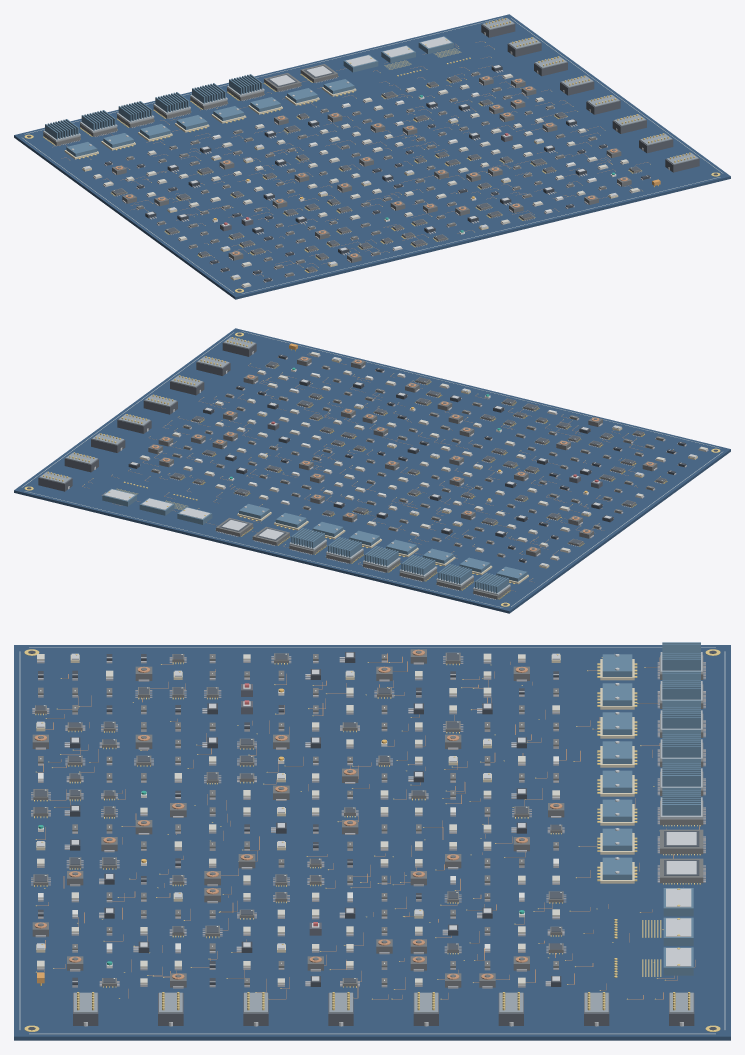
File: 401_L125_AssembledReference.glb
3 renders of one model, top to bottom at view 1: azimuth 30°, elevation 25°; view 2: azimuth 150°, elevation 25°; view 3: azimuth 270°, elevation 25°, orthographic. The views are drawn at different scales.
Visible parts, largest first — view 1: 401_L125_AssembledReference_pcb, 401_L125_AssembledReference_rfshield, 401_L125_AssembledReference_graphite, 401_L125_AssembledReference_ferrite, 401_L125_AssembledReference_solder, 401_L125_AssembledReference_ceramic, 401_L125_AssembledReference_resistor, 401_L125_AssembledReference_connector, 401_L125_AssembledReference_gold, 401_L125_AssembledReference_black, 401_L125_AssembledReference_silver, 401_L125_AssembledReference_chip (+7 smaller); view 2: 401_L125_AssembledReference_pcb, 401_L125_AssembledReference_rfshield, 401_L125_AssembledReference_graphite, 401_L125_AssembledReference_ferrite, 401_L125_AssembledReference_solder, 401_L125_AssembledReference_ceramic, 401_L125_AssembledReference_resistor, 401_L125_AssembledReference_connector, 401_L125_AssembledReference_black, 401_L125_AssembledReference_silver, 401_L125_AssembledReference_gold, 401_L125_AssembledReference_chip (+7 smaller); view 3: 401_L125_AssembledReference_pcb, 401_L125_AssembledReference_rfshield, 401_L125_AssembledReference_solder, 401_L125_AssembledReference_ferrite, 401_L125_AssembledReference_graphite, 401_L125_AssembledReference_silver, 401_L125_AssembledReference_ceramic, 401_L125_AssembledReference_chip, 401_L125_AssembledReference_gold, 401_L125_AssembledReference_silkscreen, 401_L125_AssembledReference_resistor, 401_L125_AssembledReference_steel (+8 smaller).
Part boxes in pixels (x1,y1,x2,y2): 401_L125_AssembledReference_pcb: (14,14,730,299); 401_L125_AssembledReference_rfshield: (45,36,453,156); 401_L125_AssembledReference_graphite: (43,64,640,272); 401_L125_AssembledReference_ferrite: (112,75,631,262); 401_L125_AssembledReference_solder: (58,73,650,288); 401_L125_AssembledReference_ceramic: (93,74,639,287); 401_L125_AssembledReference_resistor: (126,71,606,276); 401_L125_AssembledReference_connector: (481,23,699,172); 401_L125_AssembledReference_gold: (24,18,720,292); 401_L125_AssembledReference_black: (27,64,717,291); 401_L125_AssembledReference_silver: (82,32,669,278); 401_L125_AssembledReference_chip: (113,65,639,270); 401_L125_AssembledReference_pcb: (14,328,730,613); 401_L125_AssembledReference_rfshield: (102,488,527,593); 401_L125_AssembledReference_graphite: (170,361,666,599); 401_L125_AssembledReference_ferrite: (148,356,657,556); 401_L125_AssembledReference_solder: (139,354,708,599); 401_L125_AssembledReference_ceramic: (140,352,707,560); 401_L125_AssembledReference_resistor: (151,365,664,557); 401_L125_AssembledReference_connector: (38,342,256,491); 401_L125_AssembledReference_black: (27,333,717,605); 401_L125_AssembledReference_silver: (68,351,697,566); 401_L125_AssembledReference_gold: (24,332,720,606); 401_L125_AssembledReference_chip: (172,361,665,543); 401_L125_AssembledReference_pcb: (14,645,730,1040); 401_L125_AssembledReference_rfshield: (602,642,700,975); 401_L125_AssembledReference_solder: (31,656,705,988); 401_L125_AssembledReference_ferrite: (32,649,564,987); 401_L125_AssembledReference_graphite: (33,652,703,986); 401_L125_AssembledReference_silver: (37,652,696,1026); 401_L125_AssembledReference_ceramic: (37,653,559,985); 401_L125_AssembledReference_chip: (34,653,699,982); 401_L125_AssembledReference_gold: (24,649,720,1031); 401_L125_AssembledReference_silkscreen: (19,647,725,1034); 401_L125_AssembledReference_resistor: (38,654,558,984); 401_L125_AssembledReference_steel: (73,992,693,1013).
Size of the model in its own units: 0.62 by 0.0177 by 0.48.
